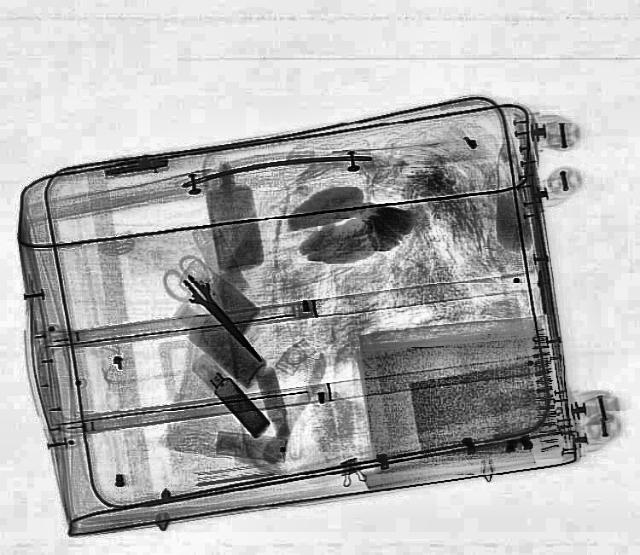Knife: (172, 269, 274, 368)
